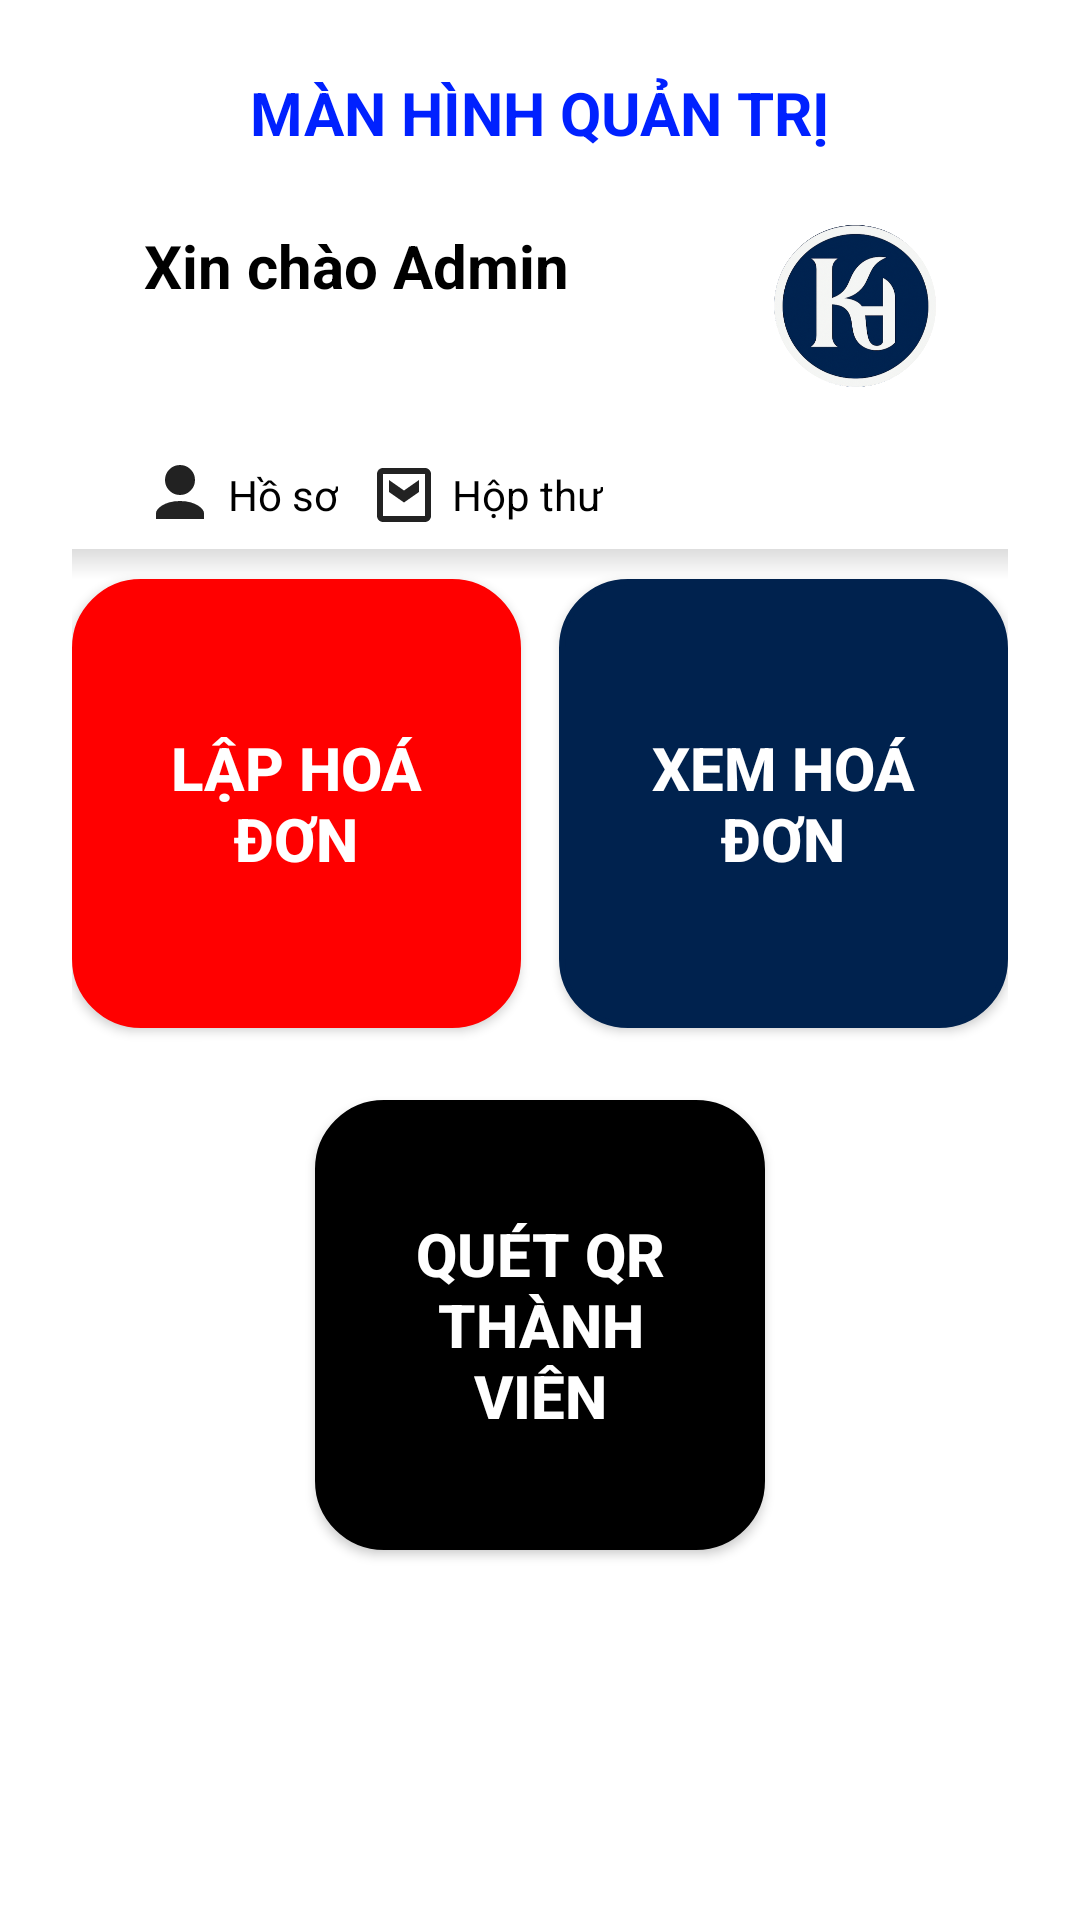

Screen size 1080px x 1920px. Icon name, then its center in pixels as [x,y]:
Profile: [180,492]
